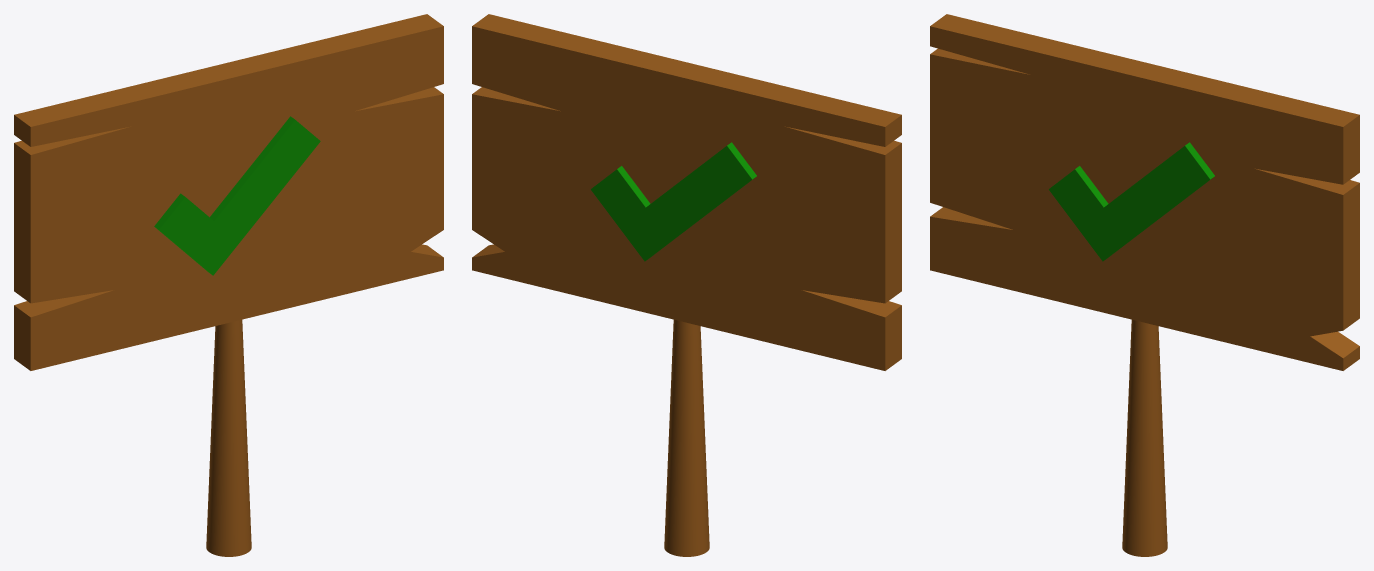
The model's file is Sign1.fbx.
3 views of the same model, side by side, from view 1: azimuth 30°, elevation 25°; view 2: azimuth 150°, elevation 25°; view 3: azimuth 330°, elevation 25° (orthographic).
Visible parts, largest first — view 1: Cube, Cylinder, Cube.002; view 2: Cube, Cylinder, Cube.001; view 3: Cube, Cylinder, Cube.002.
Boxes of the visible parts, box(x1,y1,x2,y2) form: Cube: box(14, 14, 443, 370); Cylinder: box(206, 319, 251, 556); Cube.002: box(154, 116, 320, 275); Cube: box(472, 14, 901, 370); Cylinder: box(664, 319, 709, 556); Cube.001: box(591, 142, 756, 261); Cube: box(930, 14, 1359, 370); Cylinder: box(1122, 319, 1167, 556); Cube.002: box(1049, 142, 1214, 261).
Size of the model in its own units: 173 by 190 by 19.14.
